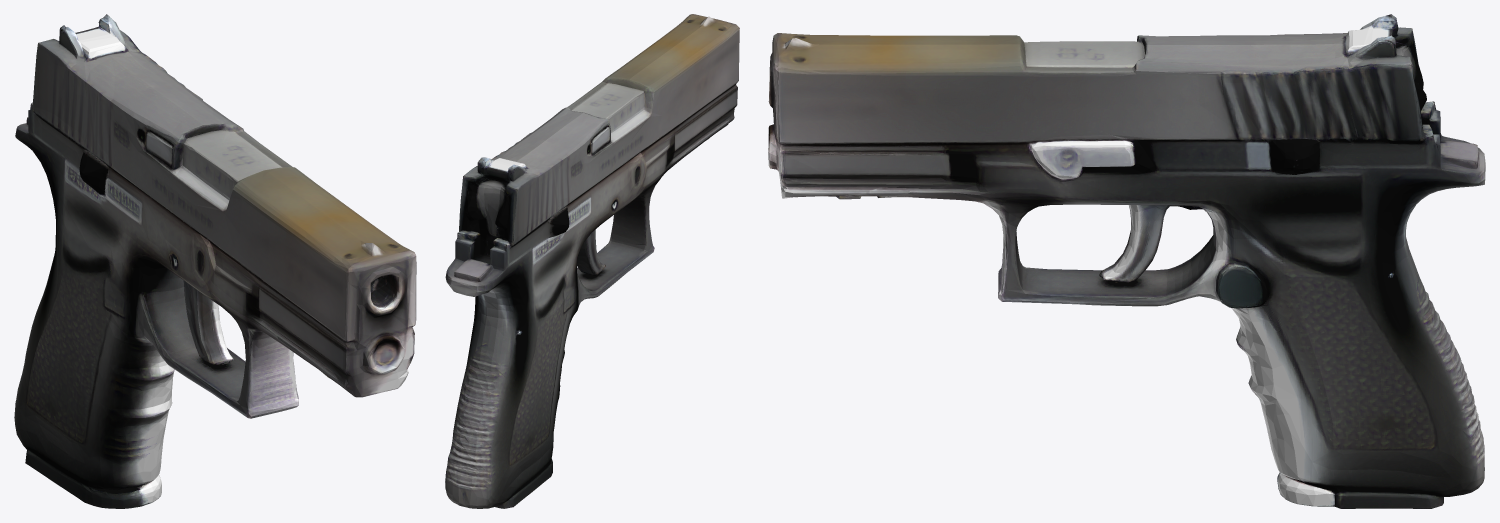
File: tv_stand.glb
The picture shows the model from 3 angles, left to right: view 1: azimuth 30°, elevation 25°; view 2: azimuth 150°, elevation 25°; view 3: azimuth 270°, elevation 25°; orthographic projection. The views are drawn at different scales.
Parts seen in each view (by area): view 1: world; view 2: world; view 3: world.
Part boxes in pixels (x1,y1,x2,y2): world: [14, 14, 416, 508]; world: [445, 14, 739, 508]; world: [768, 14, 1485, 508].
Size of the model in its own units: 0.1671 by 0.7069 by 0.9905.
Materials: 1 (1 with a texture image).
